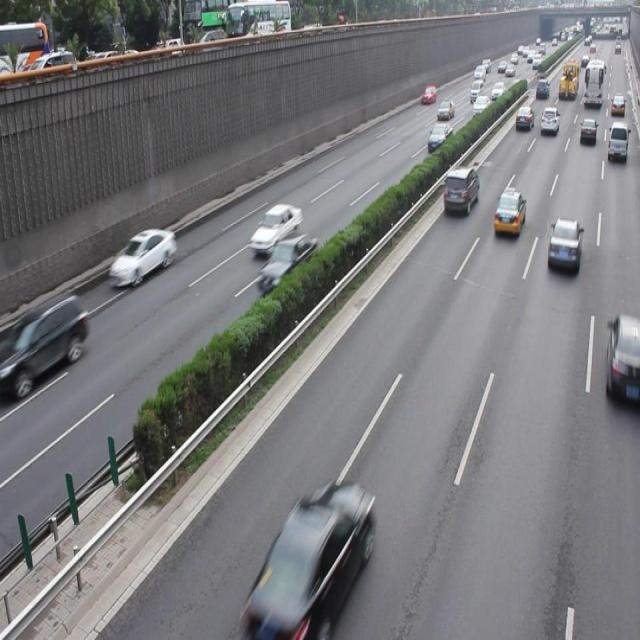car: (242, 475, 374, 640), (1, 289, 90, 398), (108, 225, 177, 288), (257, 232, 318, 292), (603, 314, 640, 401), (250, 202, 302, 255), (546, 216, 581, 273), (491, 188, 524, 236)
truck: (441, 164, 478, 216)
